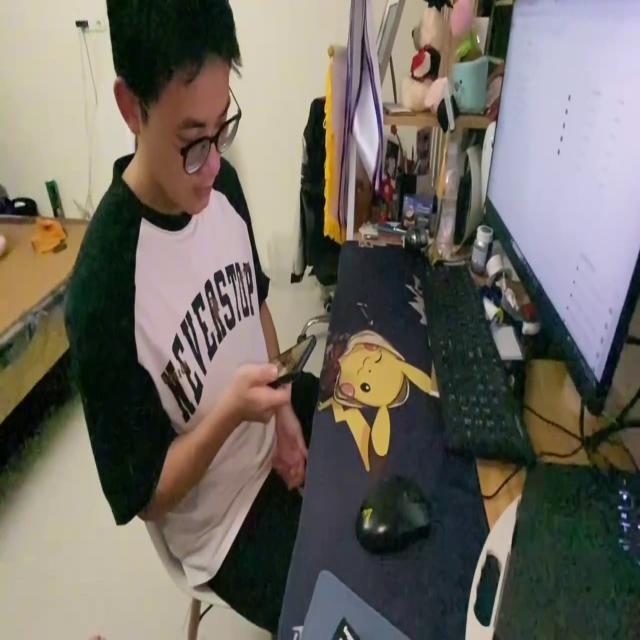laptop: (482, 7, 640, 418)
phone: (268, 332, 320, 390)
student: (62, 0, 320, 606)
